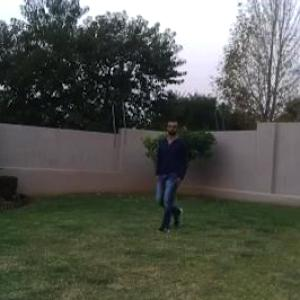follow: (153, 120, 186, 230)
